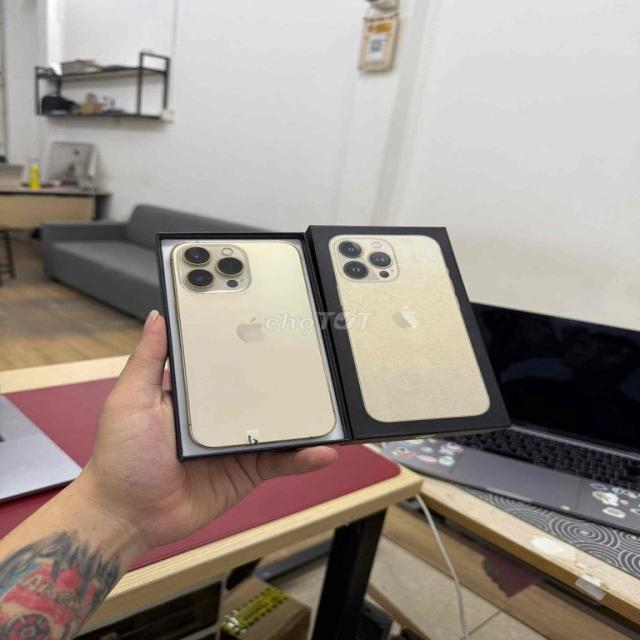gen_12_13: (160, 230, 339, 450)
